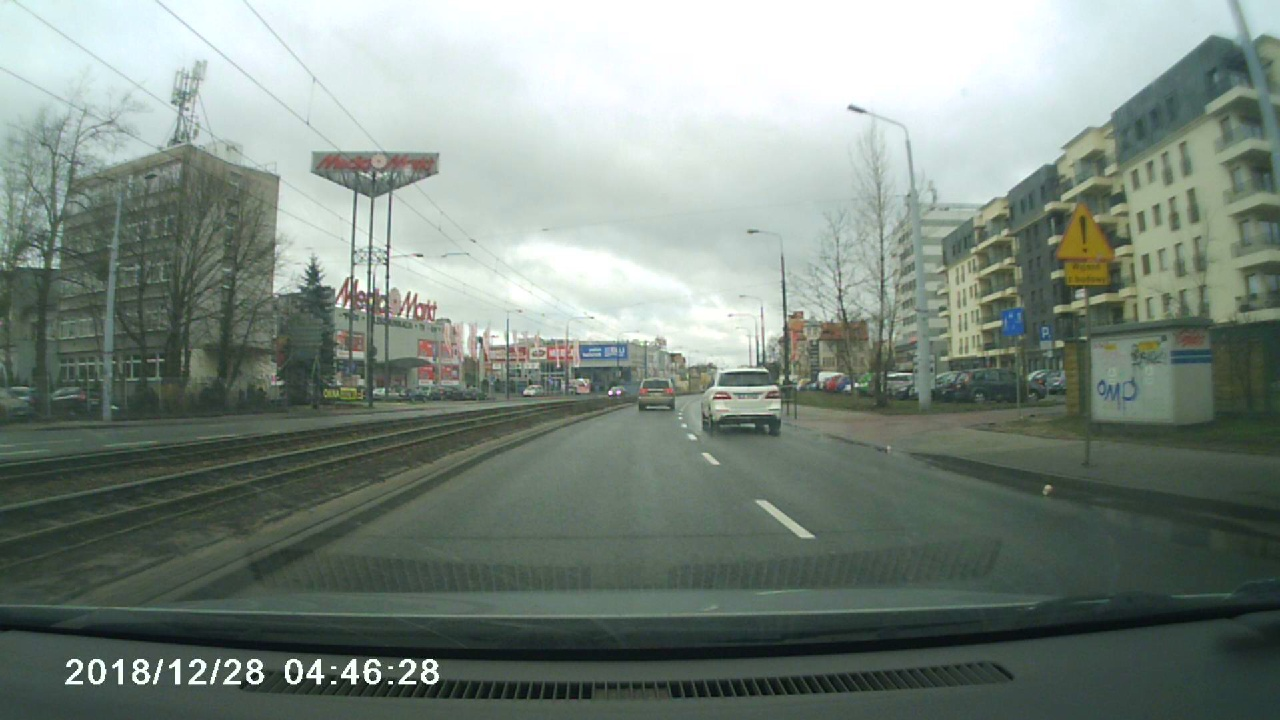A30: (1050, 197, 1118, 259)
